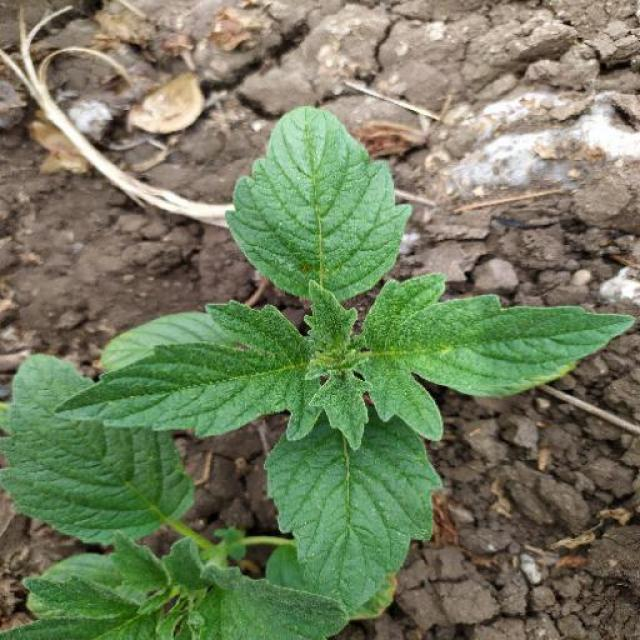crop: (70, 113, 632, 612), (2, 330, 352, 640)
